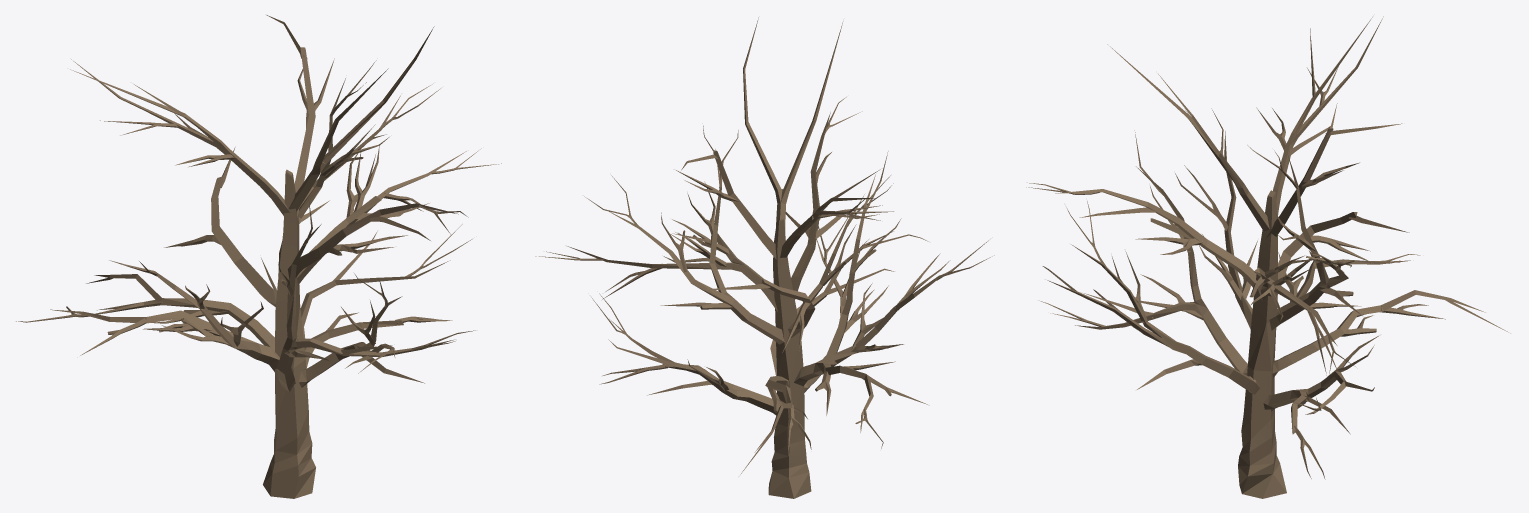
File: tree_bare_a_9.FBX
3 views of the same model, side by side, from view 1: azimuth 30°, elevation 25°; view 2: azimuth 150°, elevation 25°; view 3: azimuth 270°, elevation 25° (orthographic). The views are drawn at different scales.
Parts seen in each view (by area): view 1: tree_bare_a_9; view 2: tree_bare_a_9; view 3: tree_bare_a_9.
Part boxes in pixels (bbox=[...]): tree_bare_a_9: bbox=[16, 15, 501, 498]; tree_bare_a_9: bbox=[535, 17, 994, 498]; tree_bare_a_9: bbox=[1026, 16, 1510, 498].
Size of the model in its own units: 6.74 by 6.77 by 6.54.
